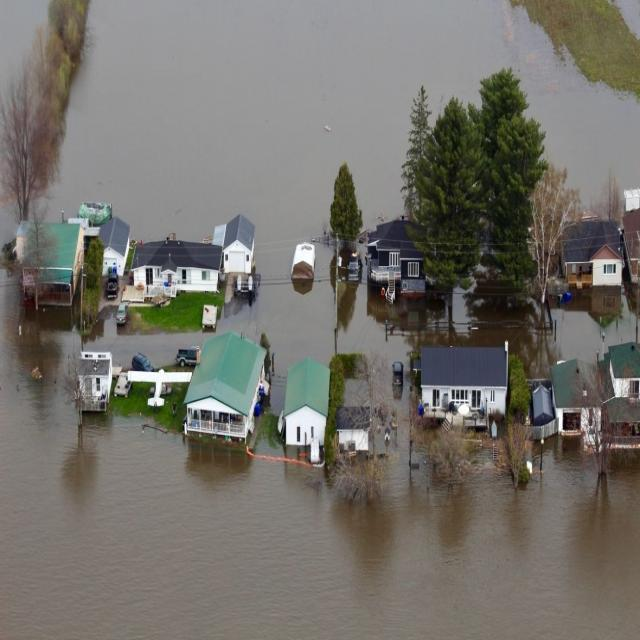flood: (0, 270, 640, 640), (46, 0, 640, 242), (220, 229, 555, 402), (552, 303, 640, 362), (86, 320, 183, 371), (0, 0, 48, 92), (614, 0, 640, 36), (0, 206, 16, 250)
house: (185, 326, 270, 456), (416, 342, 510, 433), (279, 356, 335, 468), (17, 220, 86, 307), (363, 216, 430, 302), (137, 232, 220, 298), (602, 340, 640, 456), (560, 219, 623, 288), (550, 360, 585, 438), (98, 208, 132, 286), (216, 213, 256, 276), (622, 185, 640, 302), (338, 406, 372, 453), (77, 350, 111, 396)
